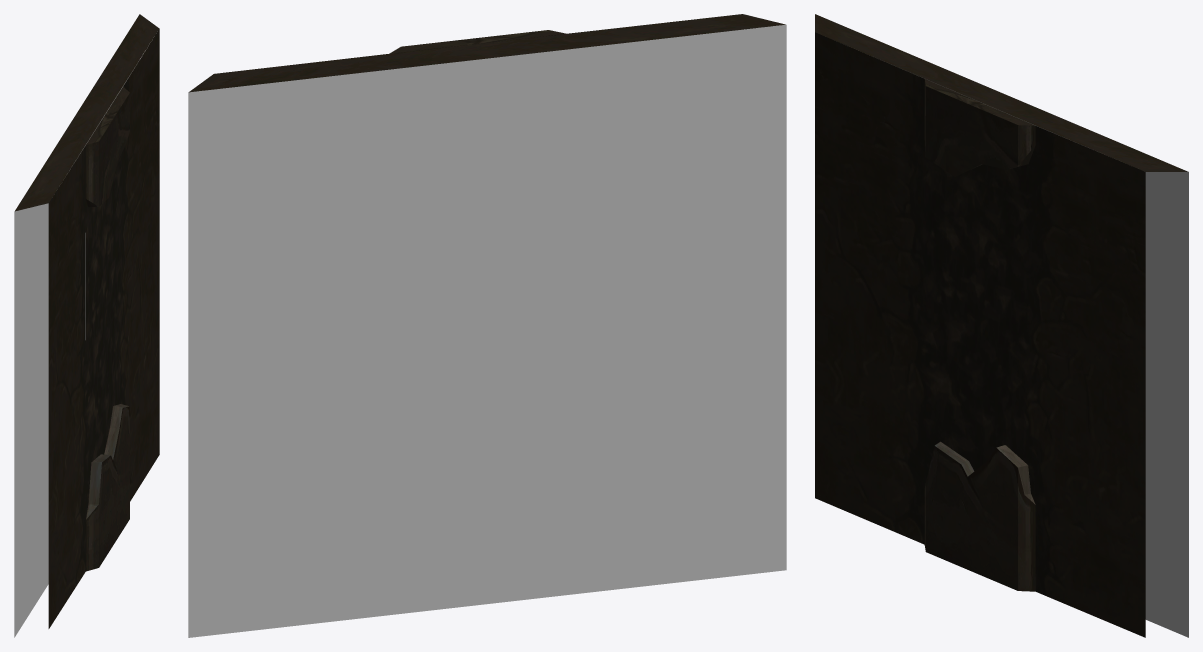
File: fortress_wall_diagonal_02_g.fbx
The picture shows the model from 3 angles, left to right: view 1: azimuth 30°, elevation 25°; view 2: azimuth 150°, elevation 25°; view 3: azimuth 270°, elevation 25°; orthographic projection. The views are drawn at different scales.
Parts seen in each view (by area): view 1: fortress_wall_diagonal_02_g-0; view 2: fortress_wall_diagonal_02_g-0; view 3: fortress_wall_diagonal_02_g-0.
Part boxes in pixels (box(x1,y1,x2,y2)): fortress_wall_diagonal_02_g-0: box(14, 14, 159, 637); fortress_wall_diagonal_02_g-0: box(188, 14, 786, 637); fortress_wall_diagonal_02_g-0: box(815, 14, 1188, 637).
Size of the model in its own units: 4 by 5.5 by 4.
